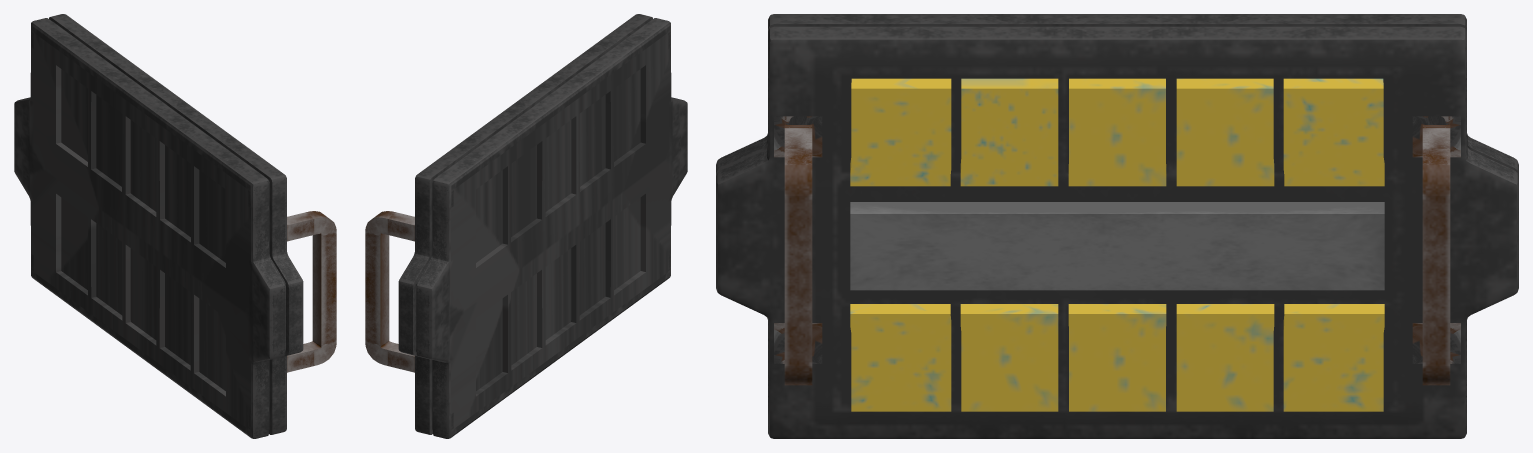
File: bateria.fbx
3 renders of one model, left to right at view 1: azimuth 30°, elevation 25°; view 2: azimuth 150°, elevation 25°; view 3: azimuth 270°, elevation 25°, orthographic. The views are drawn at different scales.
Parts seen in each view (by area): view 1: bateria.002; view 2: bateria.002; view 3: bateria.002.
Part boxes in pixels (bbox=[...]): bateria.002: bbox=[14, 14, 336, 438]; bateria.002: bbox=[365, 14, 687, 438]; bateria.002: bbox=[716, 14, 1518, 438].
Bounding box in the file's own units: 23.63 × 64.75 × 117.
